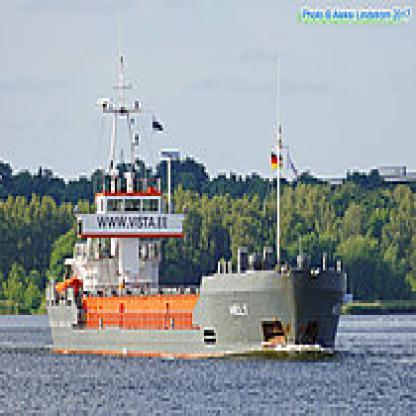Container Ship: (43, 26, 348, 359)
